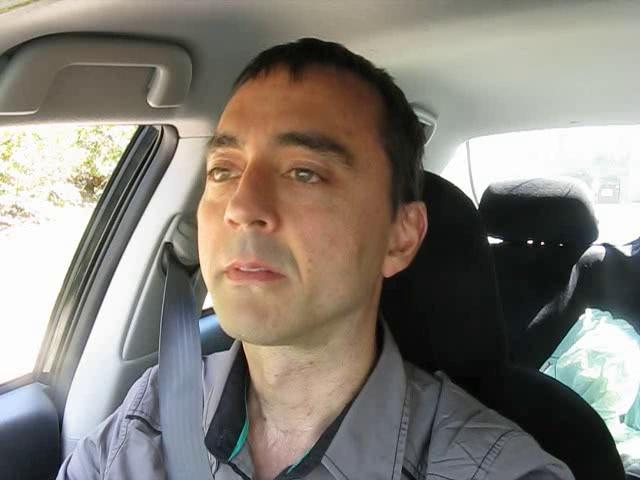no_yawn: (205, 249, 304, 295)
open_eyeL: (196, 157, 248, 191)
open_eyeR: (273, 155, 348, 196)
